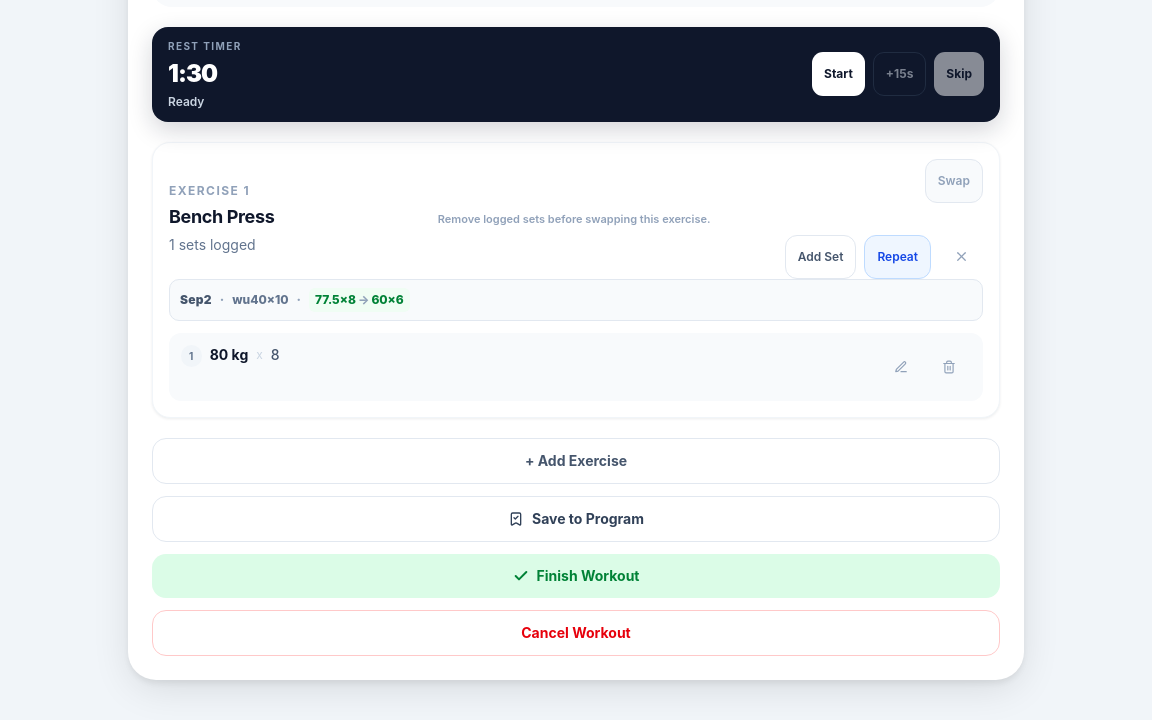
Test: WorkoutPage regression coverage › reports finish failure and renders the completed result after retry
The width and height of the screenshot is (1152, 720).
(page scrolled)
Click the button "Finish Workout": (576, 576) [152, 554, 1000, 598]
(page scrolled)
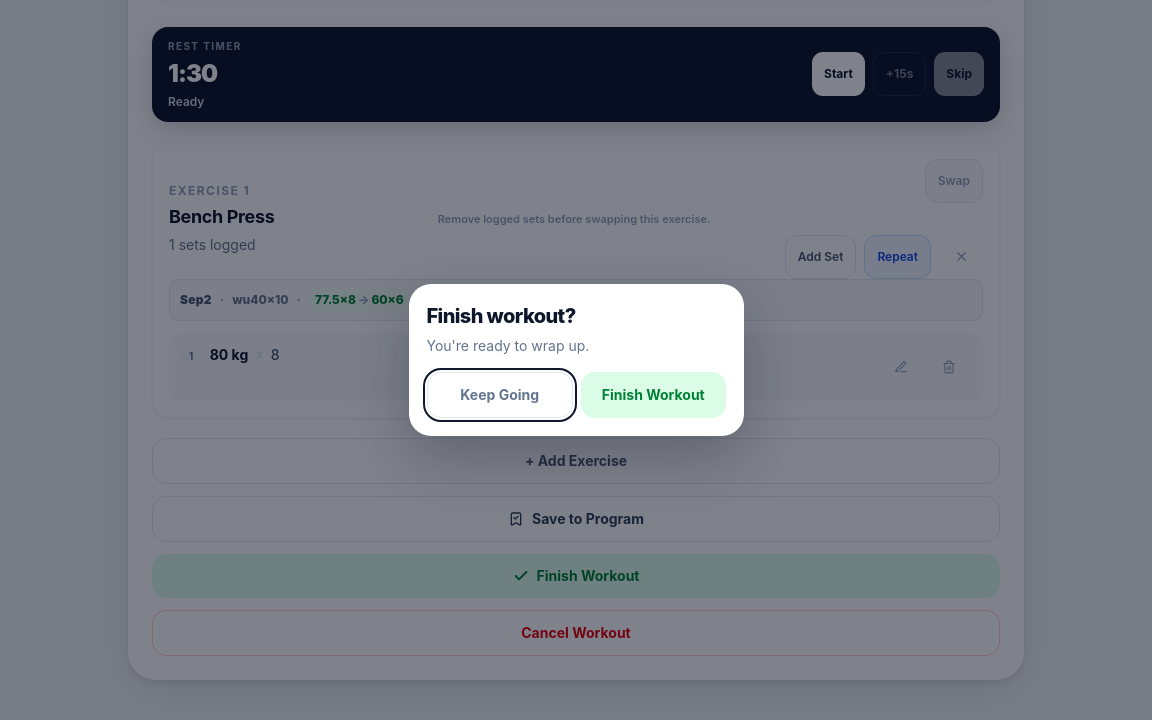
Click the button "Finish Workout": (653, 395) [581, 372, 726, 418]
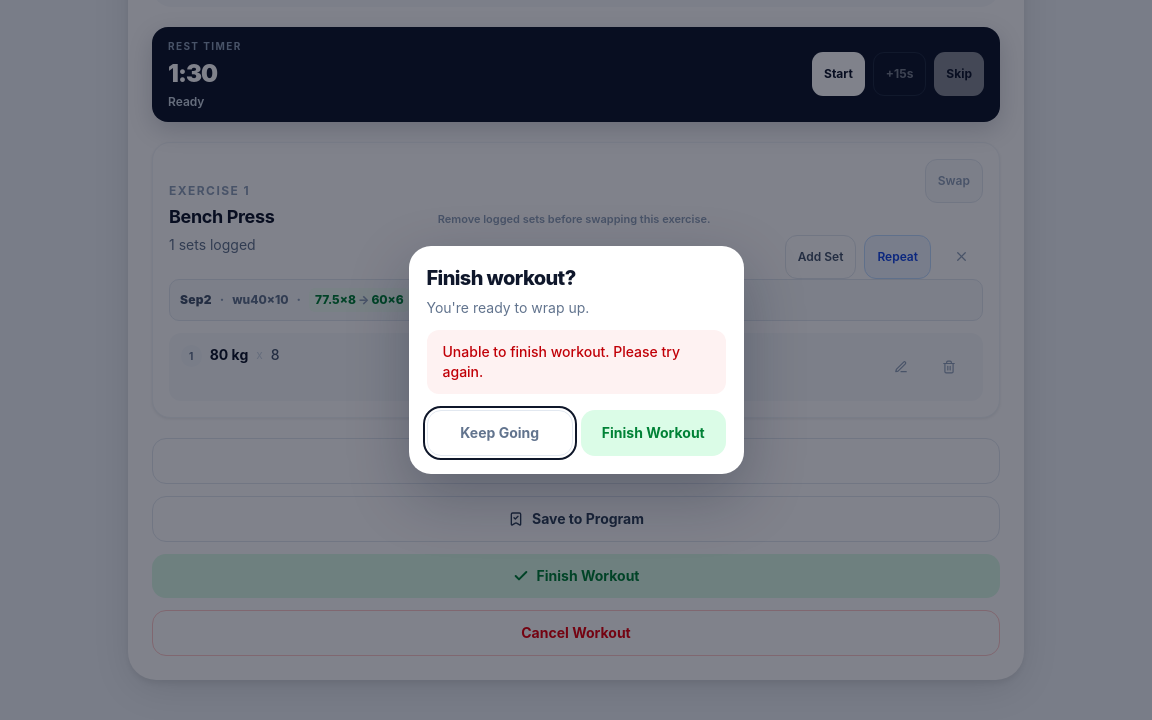
Now the message reads "Unable to finish workout. Please try again.", box [442, 343, 680, 380]
Click the button "Finish Workout": (653, 433) [581, 410, 726, 456]
(page scrolled)
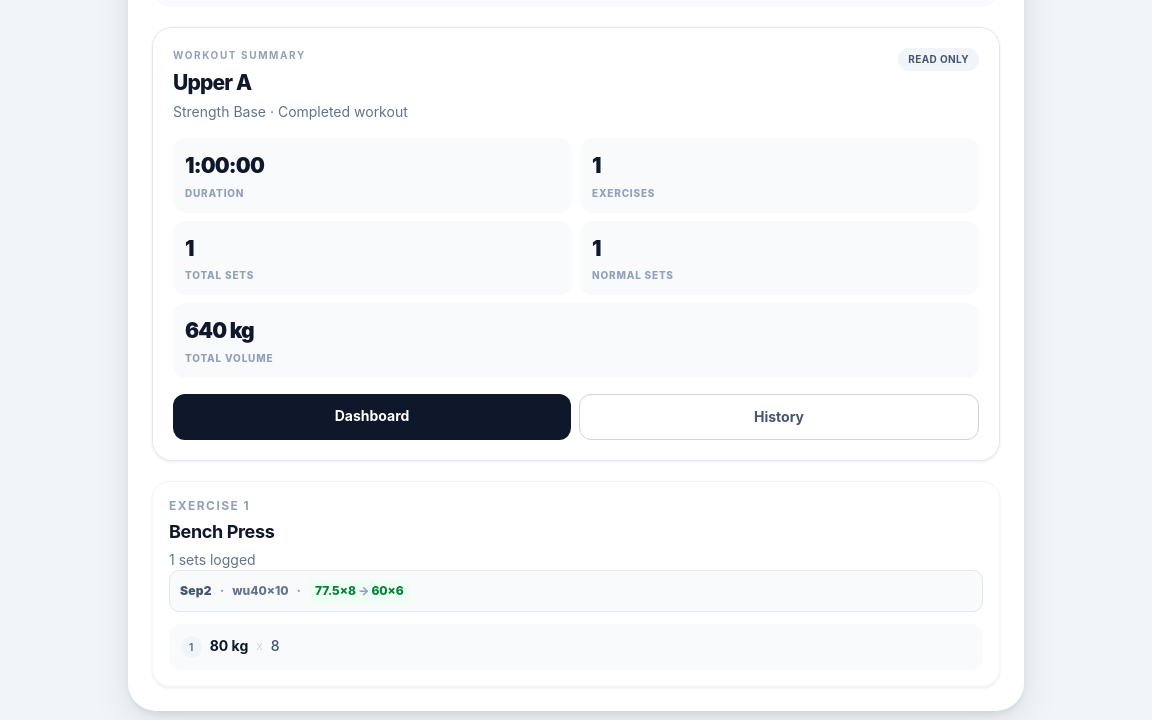
Now the text "Read only" is shown, box [898, 48, 979, 70]
Now the button "Finish Workout" is gone
